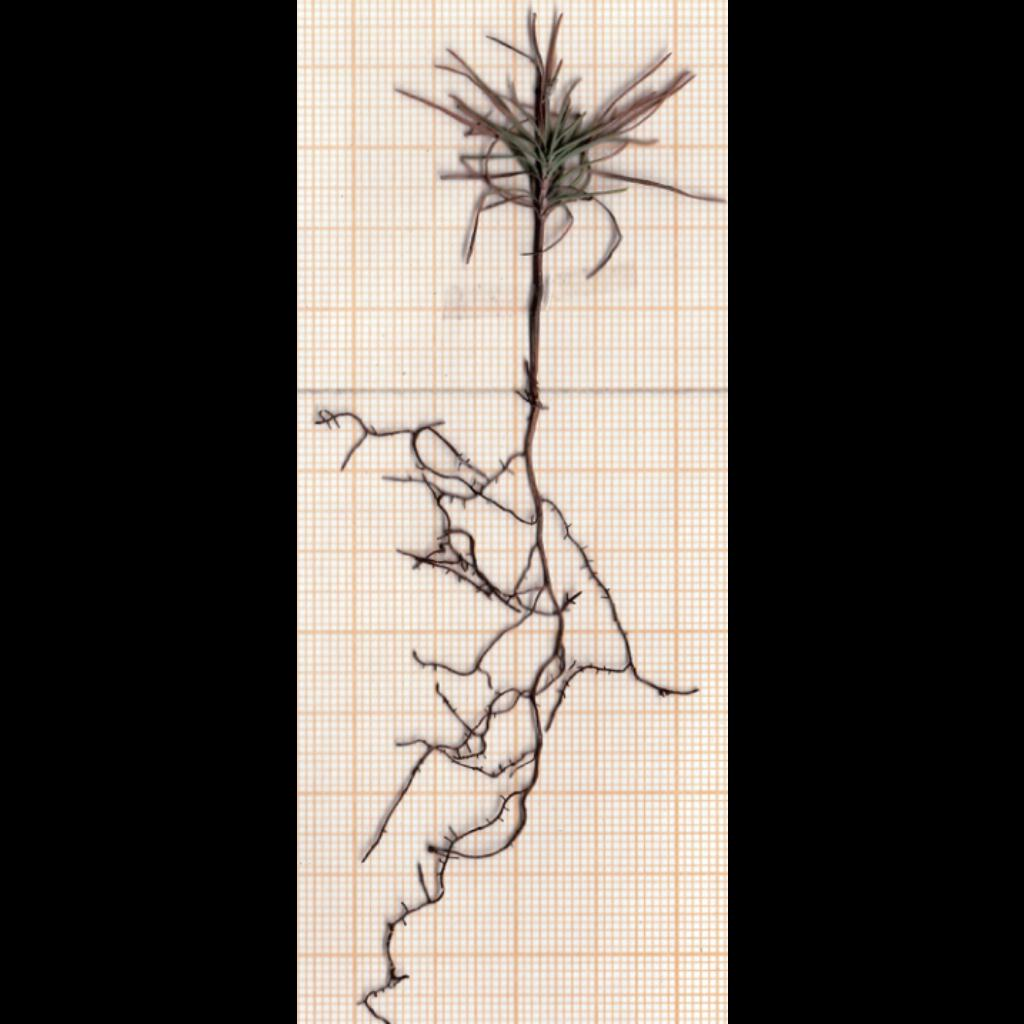flowerCedr: (399, 15, 709, 277)
rootCedr: (317, 410, 695, 1023)
stemCedr: (524, 213, 543, 468)
